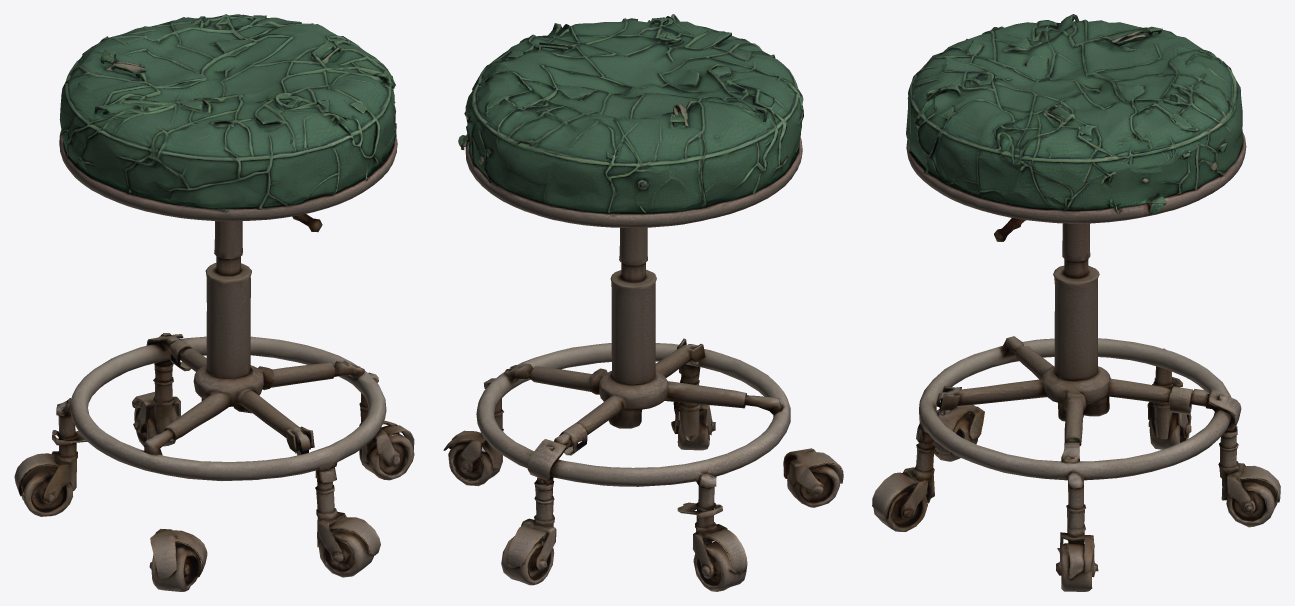
File: scene-stool-metal-v03.glb
The picture shows the model from 3 angles, left to right: view 1: azimuth 30°, elevation 25°; view 2: azimuth 150°, elevation 25°; view 3: azimuth 270°, elevation 25°; orthographic projection.
Parts seen in each view (by area): view 1: tripo_node_45c2413c-7137-4c4f-bc92-2fec349a4e40; view 2: tripo_node_45c2413c-7137-4c4f-bc92-2fec349a4e40; view 3: tripo_node_45c2413c-7137-4c4f-bc92-2fec349a4e40.
Part boxes in pixels (bbox=[...]): tripo_node_45c2413c-7137-4c4f-bc92-2fec349a4e40: bbox=[14, 14, 414, 591]; tripo_node_45c2413c-7137-4c4f-bc92-2fec349a4e40: bbox=[443, 14, 843, 591]; tripo_node_45c2413c-7137-4c4f-bc92-2fec349a4e40: bbox=[872, 14, 1280, 591].
Size of the model in its own units: 0.4401 by 0.55 by 0.4547.
Materials: 1 (1 with a texture image).
